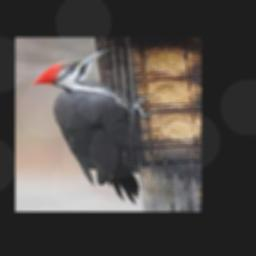Woodpecker: (31, 48, 151, 204)
